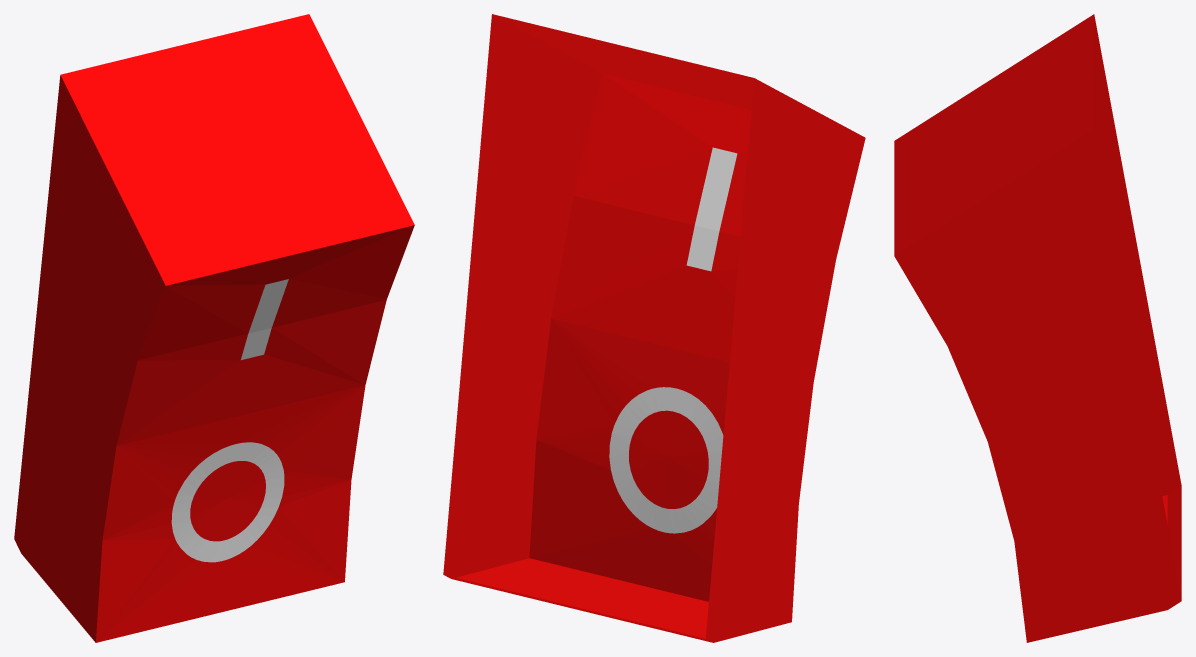
File: swit vacum.fbx
The picture shows the model from 3 angles, left to right: view 1: azimuth 30°, elevation 25°; view 2: azimuth 150°, elevation 25°; view 3: azimuth 270°, elevation 25°; orthographic projection. The views are drawn at different scales.
Parts seen in each view (by area): view 1: Switch Vacum; view 2: Switch Vacum; view 3: Switch Vacum.
Part boxes in pixels (x1,y1,x2,y2): Switch Vacum: [14, 14, 414, 642]; Switch Vacum: [443, 14, 865, 642]; Switch Vacum: [894, 14, 1181, 642].
Bounding box in the file's own units: 0.8956 × 1.86 × 0.9448.
1 material, 1 textured.
